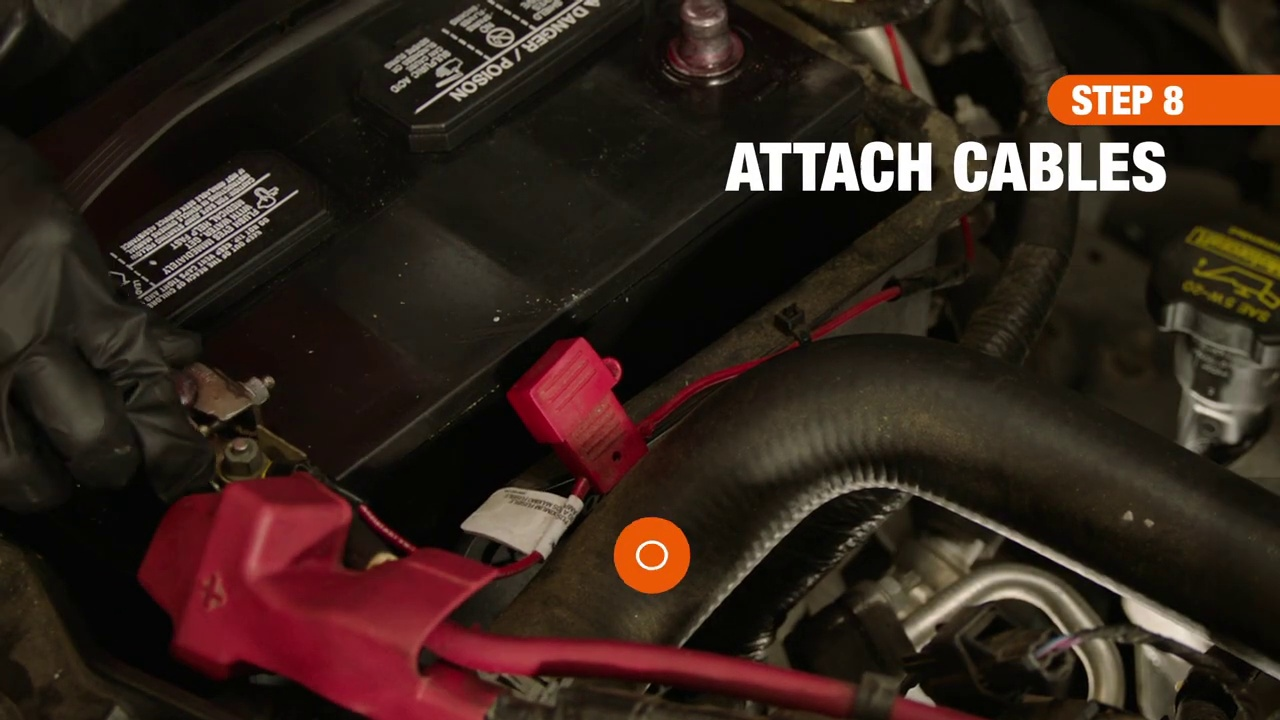battery: (24, 1, 868, 562)
neg_disconnected: (627, 1, 795, 98)
pos_touched: (1, 233, 362, 634)
